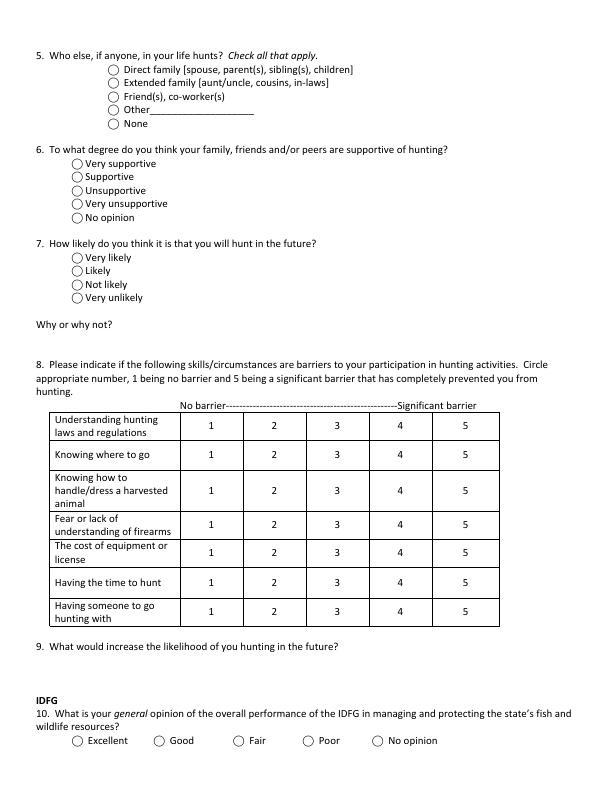check_box: (69, 734, 85, 748), (69, 291, 84, 305), (152, 734, 167, 748), (230, 734, 245, 748), (70, 211, 84, 225), (370, 734, 384, 748), (69, 197, 83, 210), (70, 184, 83, 197), (301, 734, 314, 747), (71, 157, 83, 170), (70, 251, 83, 263), (70, 279, 83, 291), (70, 265, 83, 276), (70, 171, 82, 182)
input: (149, 105, 255, 118)
table: (47, 410, 505, 630)
text: (30, 357, 555, 399), (33, 695, 576, 733), (32, 143, 451, 157), (31, 640, 344, 655), (31, 45, 319, 61), (34, 236, 319, 250), (177, 399, 479, 410), (123, 62, 356, 76), (122, 78, 332, 92), (126, 91, 230, 106), (33, 318, 118, 332), (83, 155, 161, 170), (84, 198, 170, 209), (84, 291, 145, 305), (83, 250, 136, 263), (83, 171, 138, 183), (84, 212, 139, 224), (85, 186, 147, 196), (85, 278, 131, 290), (84, 264, 117, 276), (122, 117, 152, 130), (123, 104, 151, 117)
